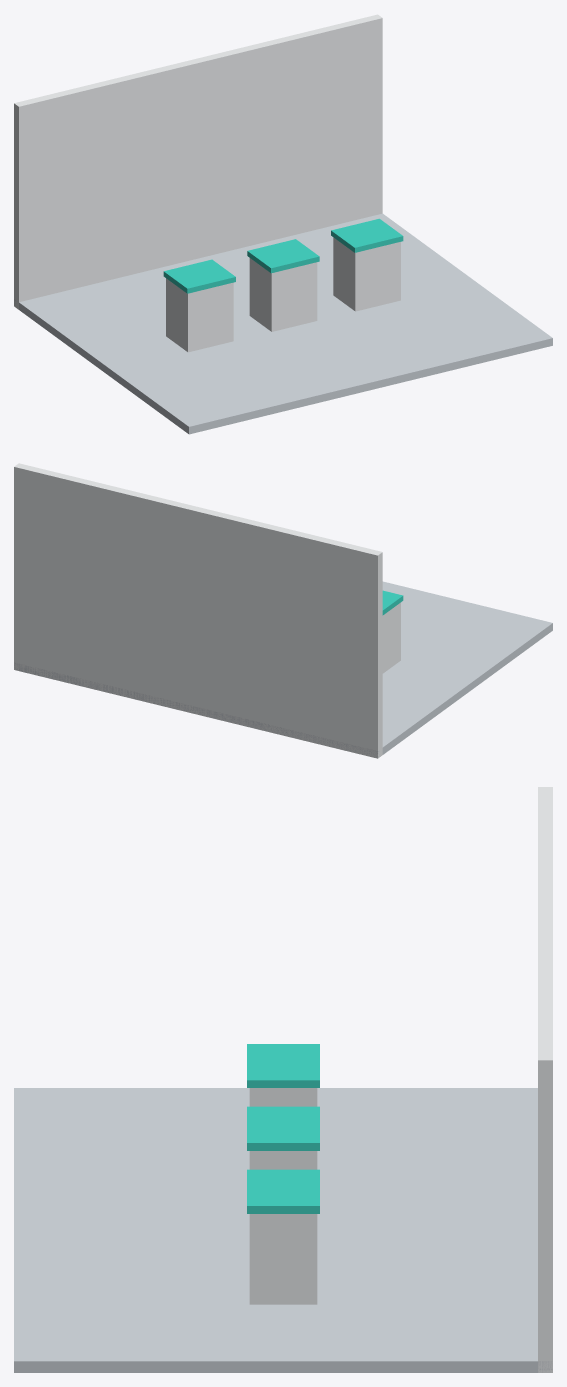
3 renders of one model, top to bottom at view 1: azimuth 30°, elevation 25°; view 2: azimuth 150°, elevation 25°; view 3: azimuth 270°, elevation 25°, orthographic. The views are drawn at different scales.
Visible parts, largest first — view 1: Exhibition Booth Concept; view 2: Exhibition Booth Concept; view 3: Exhibition Booth Concept.
Part boxes in pixels (x1,y1,x2,y2): Exhibition Booth Concept: (14,14,552,434); Exhibition Booth Concept: (14,463,552,758); Exhibition Booth Concept: (14,787,552,1372).
Size of the model in its own units: 6 by 3.2 by 5.
